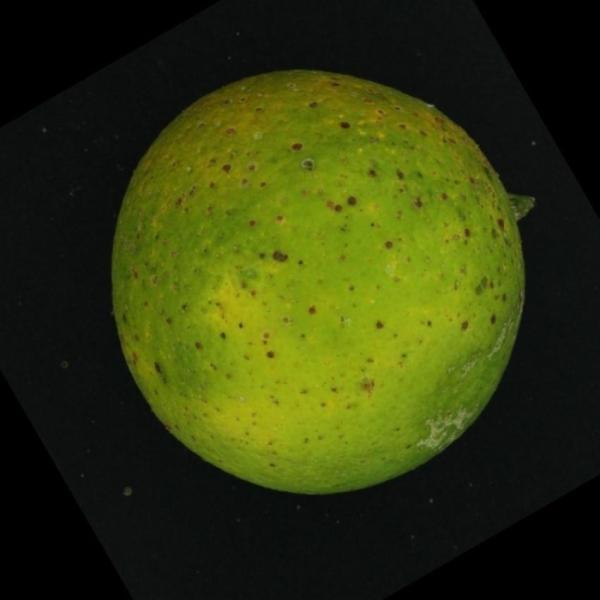Greening: (87, 57, 553, 503)
